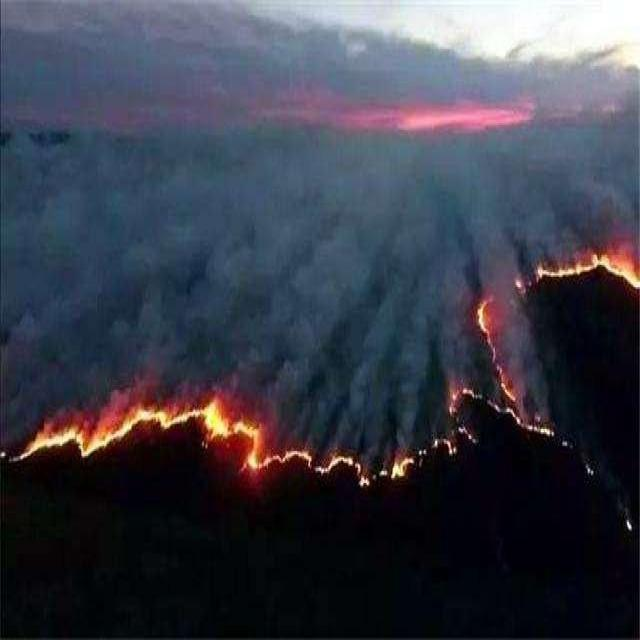other: (8, 389, 452, 485), (452, 223, 638, 439)
smoke: (19, 142, 442, 377), (467, 133, 633, 212)
